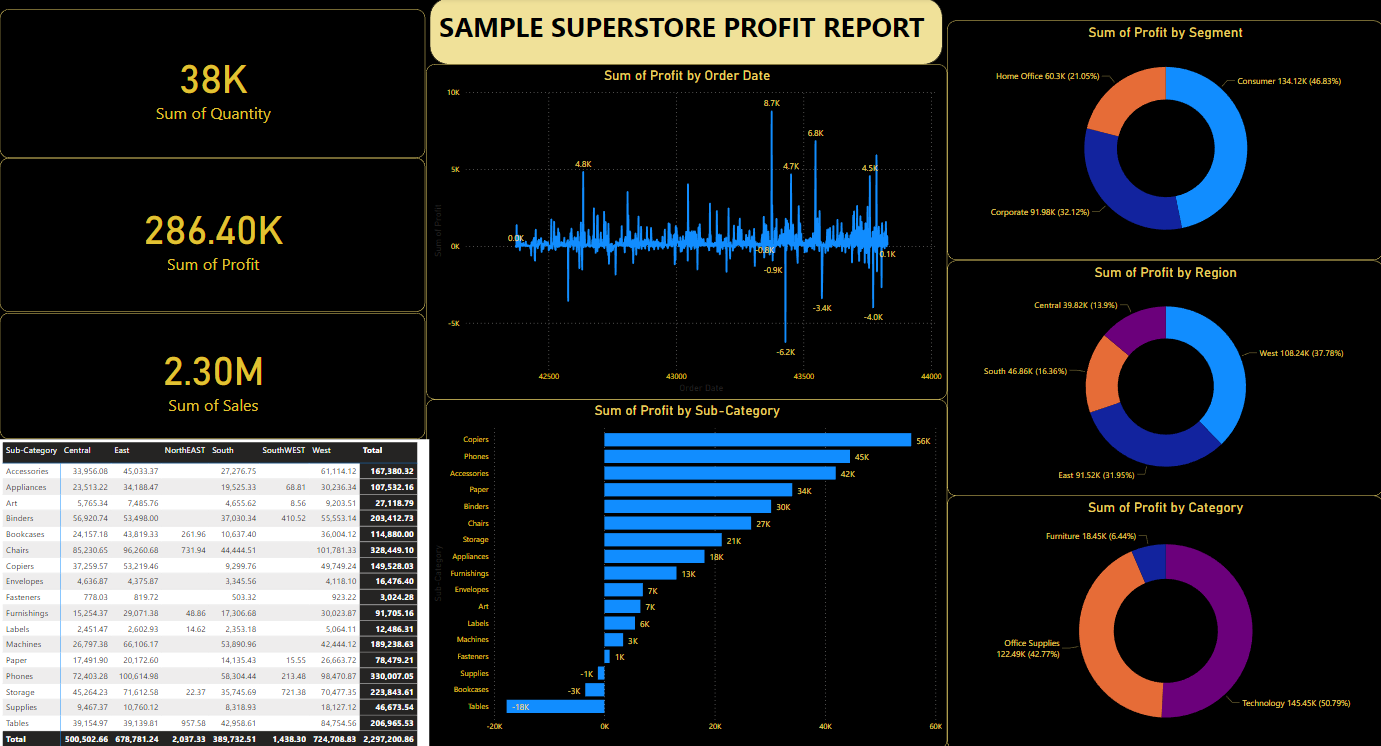

What the dashboard file says about the page in this screenshot:
{"tool":"powerbi","page":{"name":"Page 1","canvas":[2200,1200],"ordinal":0},"visuals":[{"type":"textbox","box":[687.5,0,813.4,105.9],"z":0},{"type":"donutChart","fields":{"Category":["Orders.Category"],"Y":["Sum(Orders.Profit)"]},"box":[1508.9,789.4,691.5,403.7],"z":1000},{"type":"donutChart","fields":{"Y":["Sum(Orders.Profit)"],"Category":["Orders.Segment"]},"box":[1509.4,0,690.2,416.5],"z":2000},{"type":"donutChart","fields":{"Y":["Sum(Orders.Profit)"],"Category":["Orders.Region"]},"box":[1508.9,415.7,691.5,373.7],"z":3000},{"type":"barChart","fields":{"Category":["Orders.Sub-Category"],"Y":["Sum(Orders.Profit)"]},"box":[681.5,637.5,827.4,555.6],"z":4000},{"type":"lineChart","fields":{"Category":["Orders.Order Date"],"Y":["Sum(Orders.Profit)"]},"box":[681.5,105.9,827.4,531.6],"z":5000},{"type":"pivotTable","fields":{"Rows":["Orders.Sub-Category"],"Columns":["Orders.Region"],"Values":["Sum(Orders.Sales)"]},"box":[6,699.5,681.5,493.6],"z":5001},{"type":"card","fields":{"Values":["Sum(Orders.Quantity)"]},"box":[6,0,676.4,253.9],"z":5002},{"type":"card","fields":{"Values":["Sum(Orders.Sales)"]},"box":[6,499.6,675.5,199.9],"z":5003},{"type":"card","fields":{"Values":["Sum(Orders.Profit)"]},"box":[6,253.8,675.5,243.8],"z":5004}]}

Visuals, with their boxes in screenshot pixels (x1, y1, x2, y2), scaled from the page's 2200x1200 canvas onto the 1381x746 screenshot:
textbox: left=432, top=0, right=942, bottom=66
donutChart - Orders.Category x Sum(Orders.Profit): left=947, top=491, right=1380, bottom=742
donutChart - Sum(Orders.Profit) x Orders.Segment: left=947, top=0, right=1380, bottom=259
donutChart - Sum(Orders.Profit) x Orders.Region: left=947, top=258, right=1380, bottom=491
barChart - Orders.Sub-Category x Sum(Orders.Profit): left=428, top=396, right=947, bottom=742
lineChart - Orders.Order Date x Sum(Orders.Profit): left=428, top=66, right=947, bottom=396
pivotTable - Orders.Sub-Category x Orders.Region: left=4, top=435, right=432, bottom=742
card - Sum(Orders.Quantity): left=4, top=0, right=428, bottom=158
card - Sum(Orders.Sales): left=4, top=311, right=428, bottom=435
card - Sum(Orders.Profit): left=4, top=158, right=428, bottom=309
